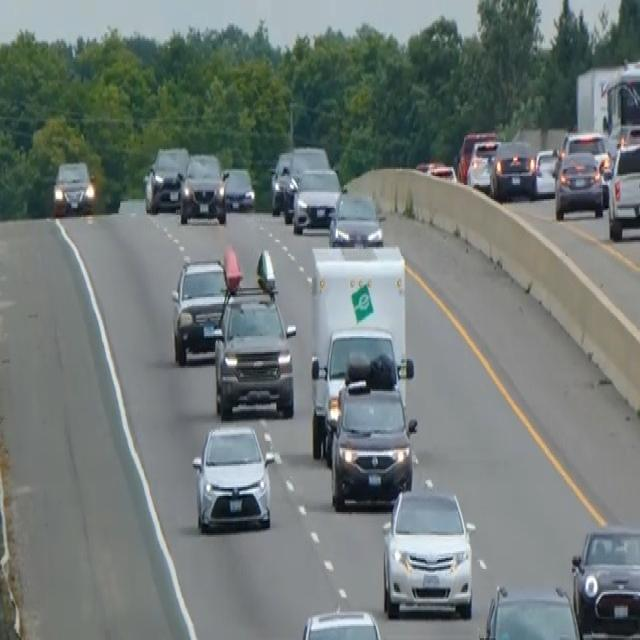car: (328, 356, 417, 510), (191, 422, 275, 534), (570, 523, 639, 638), (169, 254, 230, 364), (477, 580, 584, 638), (179, 149, 227, 224), (282, 144, 329, 219), (554, 150, 604, 220), (292, 165, 342, 233), (606, 139, 639, 240), (328, 189, 383, 247), (143, 144, 188, 213), (489, 137, 536, 199), (559, 128, 612, 180), (299, 606, 384, 638), (52, 158, 94, 215), (466, 137, 501, 192), (222, 164, 255, 212), (530, 146, 559, 197), (269, 150, 292, 213), (415, 157, 456, 183)
jeep: (211, 281, 297, 419)
minivan: (379, 478, 475, 620)
truck: (307, 242, 410, 460)
